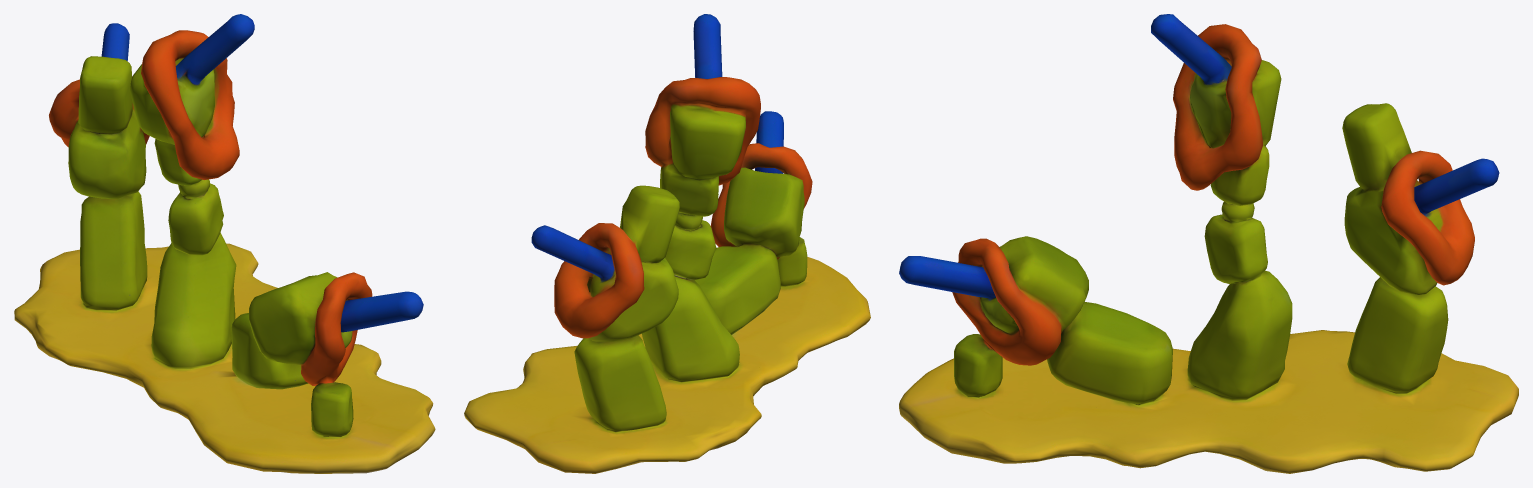
The model's file is 13ee1686-f136-416e-ad49-ee4ccca48aa4.glb.
3 views of the same model, side by side, from view 1: azimuth 30°, elevation 25°; view 2: azimuth 150°, elevation 25°; view 3: azimuth 270°, elevation 25° (orthographic). The views are drawn at different scales.
Visible parts, largest first — view 1: tripo_node_5398cfc0-23f0-40df-ba2d-6ea1a2cddf57; view 2: tripo_node_5398cfc0-23f0-40df-ba2d-6ea1a2cddf57; view 3: tripo_node_5398cfc0-23f0-40df-ba2d-6ea1a2cddf57.
Boxes of the visible parts, x1,y1,x2,y2 form: tripo_node_5398cfc0-23f0-40df-ba2d-6ea1a2cddf57: [14, 14, 435, 473]; tripo_node_5398cfc0-23f0-40df-ba2d-6ea1a2cddf57: [464, 14, 870, 473]; tripo_node_5398cfc0-23f0-40df-ba2d-6ea1a2cddf57: [899, 14, 1518, 473].
Bounding box in the file's own units: 0.5029 × 0.7241 × 0.9961.
Materials: 1 (1 with a texture image).
